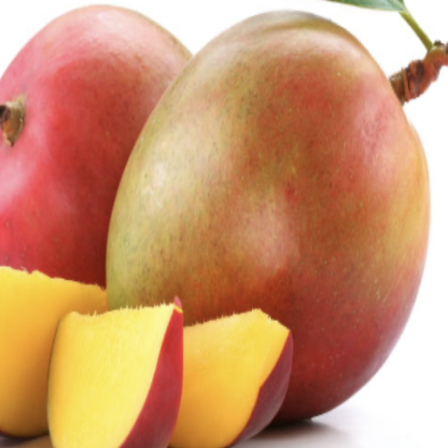mango: (87, 7, 448, 429)
